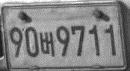0: (24, 25, 40, 57)
1: (103, 23, 117, 56), (87, 24, 100, 57)
7: (70, 24, 85, 57)
9: (9, 26, 23, 58), (56, 25, 70, 57)
버: (39, 30, 55, 57)
